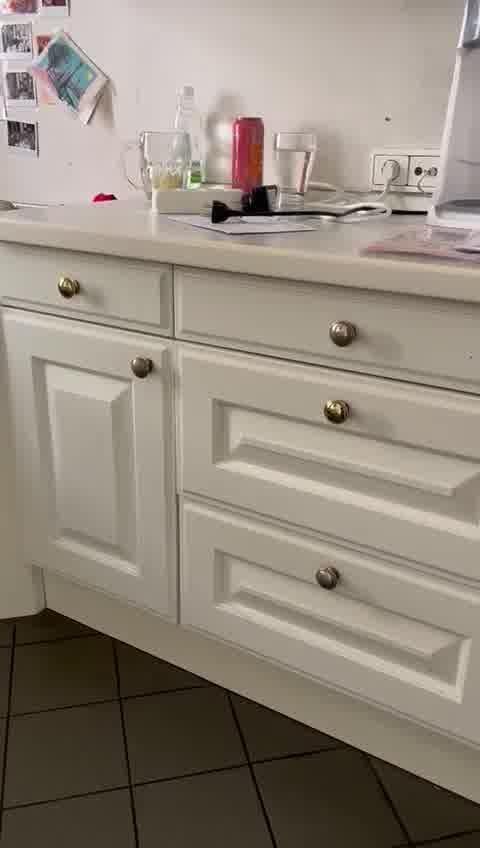cabinet_door: (1, 320, 174, 602), (184, 547, 474, 681), (193, 374, 479, 487), (179, 290, 478, 362), (6, 253, 165, 317)
handle: (324, 314, 368, 356), (316, 389, 356, 431), (311, 563, 345, 597), (129, 348, 155, 383), (57, 277, 82, 308)
